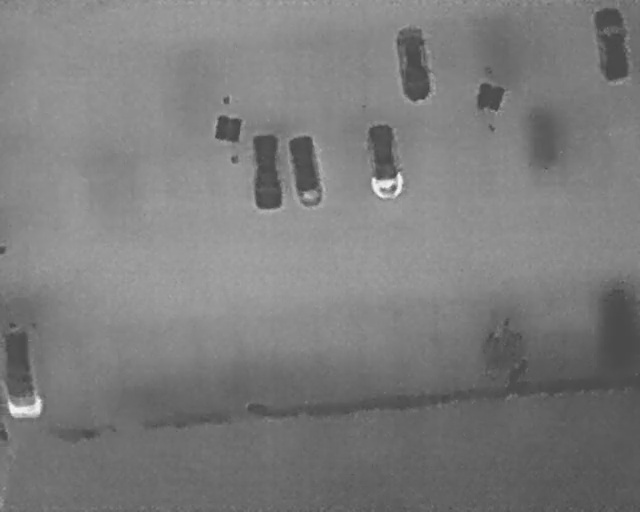Car: (1, 325, 45, 417), (363, 121, 406, 202), (392, 24, 435, 103), (285, 131, 327, 210), (591, 4, 633, 83), (251, 133, 283, 210)
